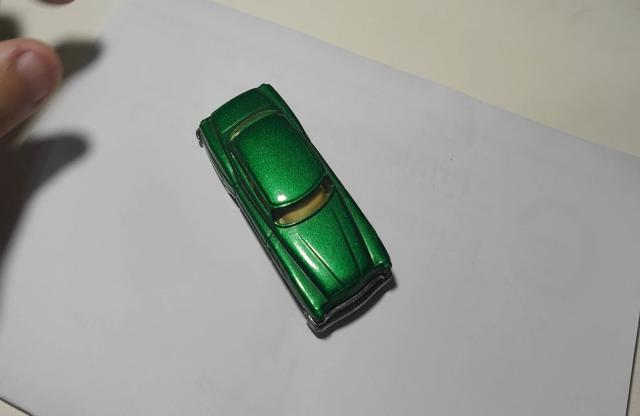06_MASERATI: (196, 84, 399, 341)
